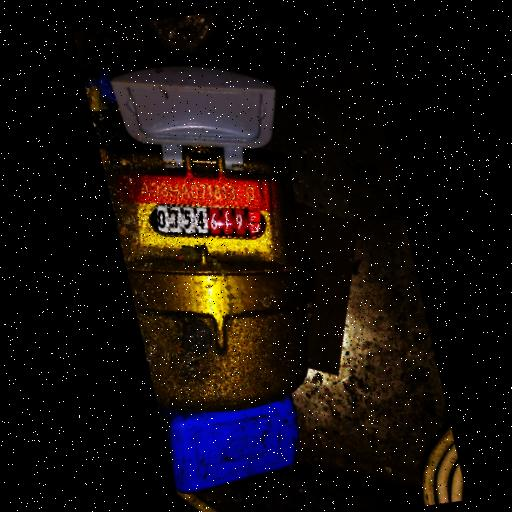0: (147, 202, 173, 235)
1: (215, 205, 237, 236)
4: (189, 204, 212, 236)
5: (175, 202, 199, 235)
6: (202, 204, 225, 236)
7: (162, 202, 186, 235)
9: (227, 205, 251, 238)
border_water_meter_number: (141, 183, 272, 258)
